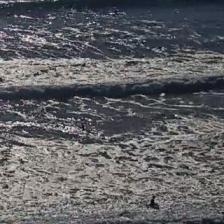surfer: (0, 77, 6, 85), (33, 71, 41, 77), (113, 8, 120, 14)
